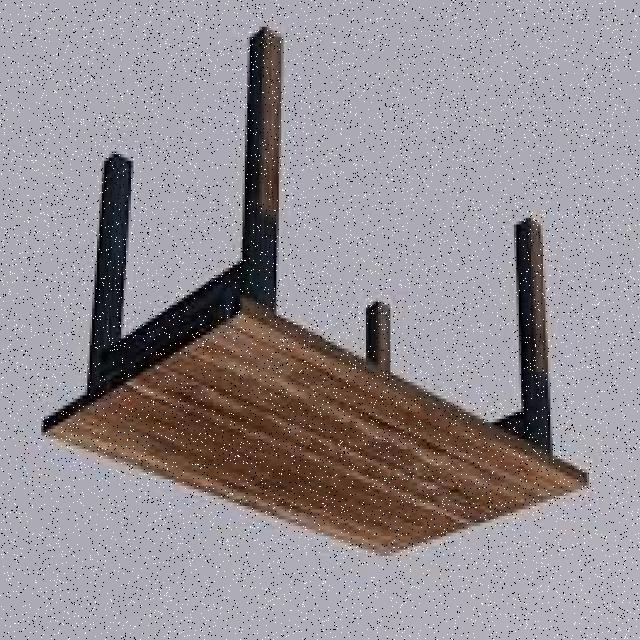mobile-phone: (37, 26, 593, 555)
